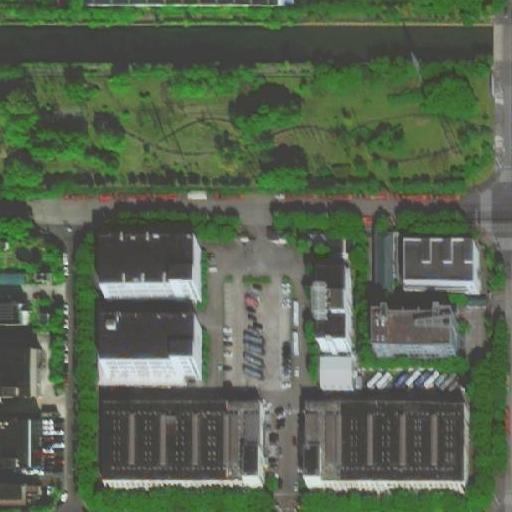building: (102, 406, 267, 490), (313, 407, 472, 493), (100, 312, 205, 381), (101, 236, 201, 303), (401, 240, 483, 294), (374, 310, 461, 360), (316, 289, 356, 356), (378, 230, 397, 289)
